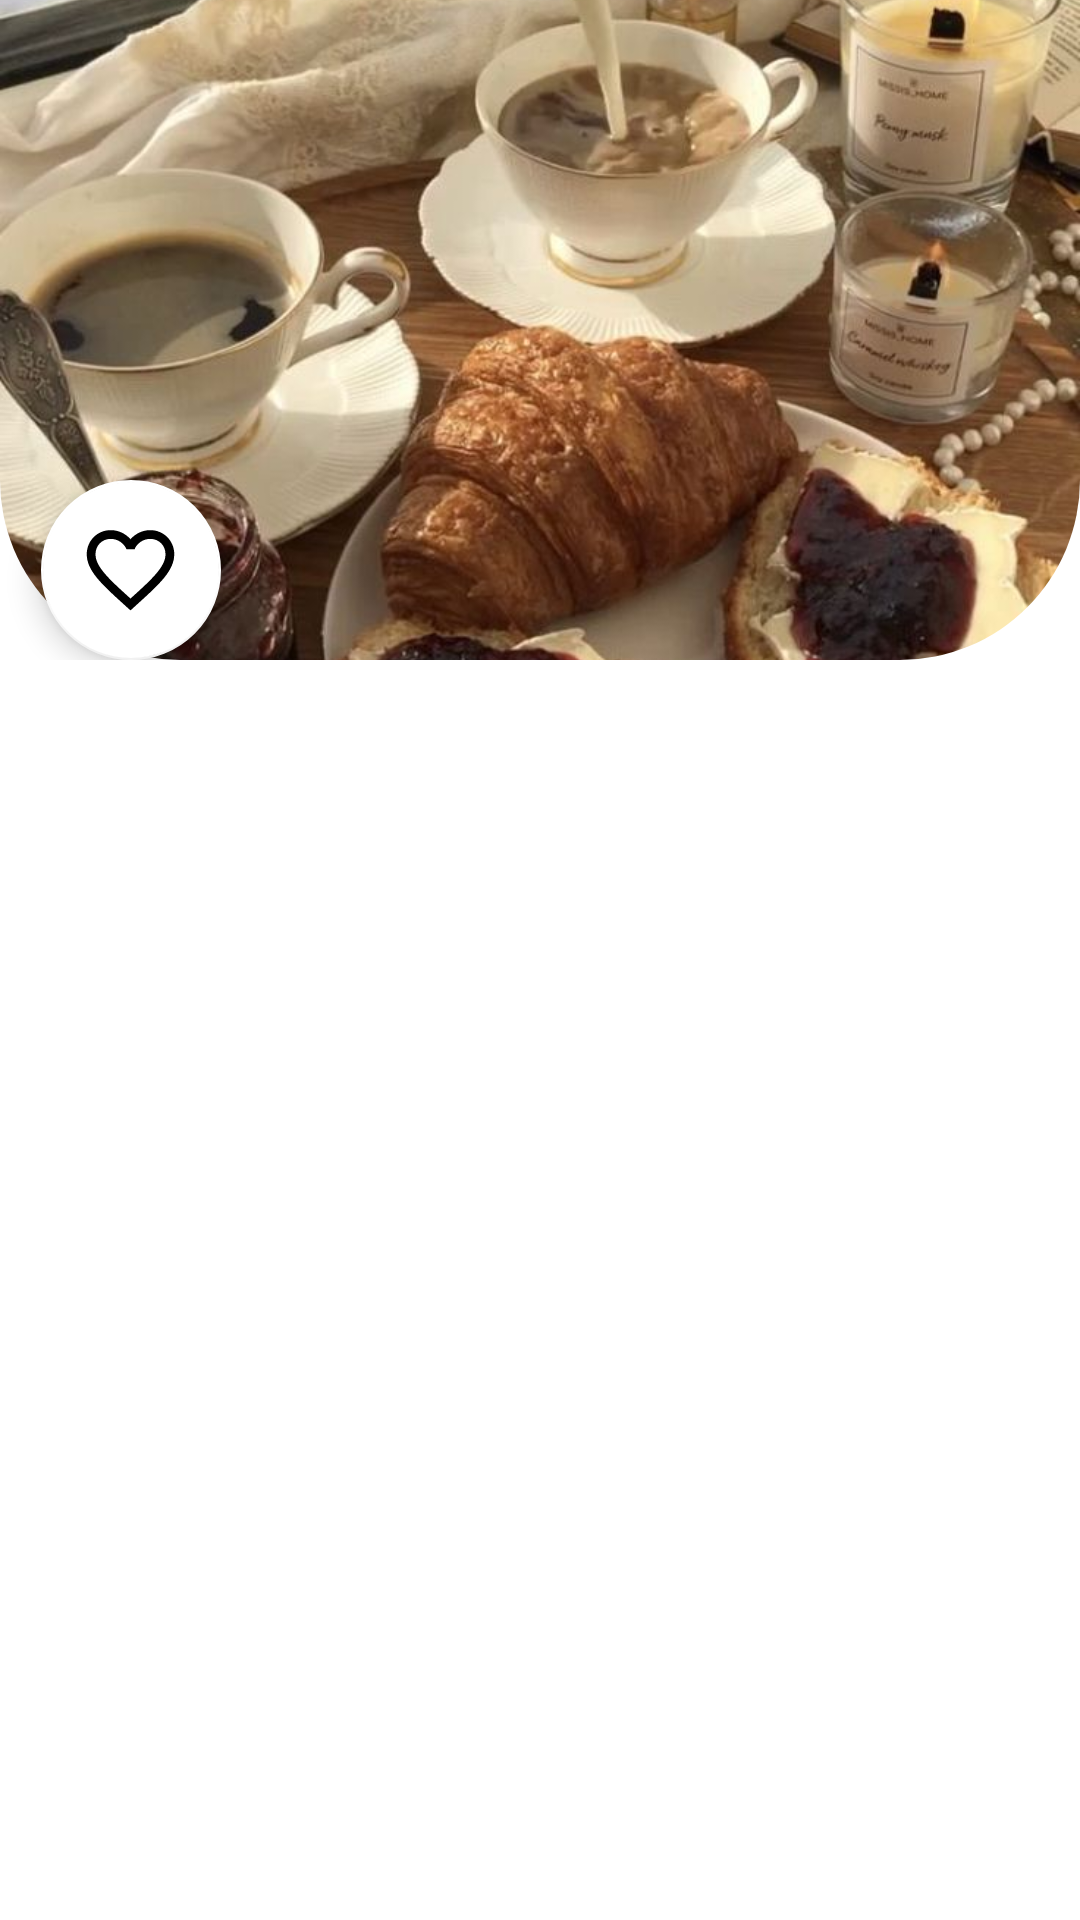

Icons on this 1080px x 1920px Android screen, each with the point to tap as point (x, y):
fav: point (131, 570)
